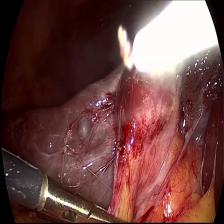Grasper: (41, 173, 128, 224)
Hook: (112, 0, 216, 90)
